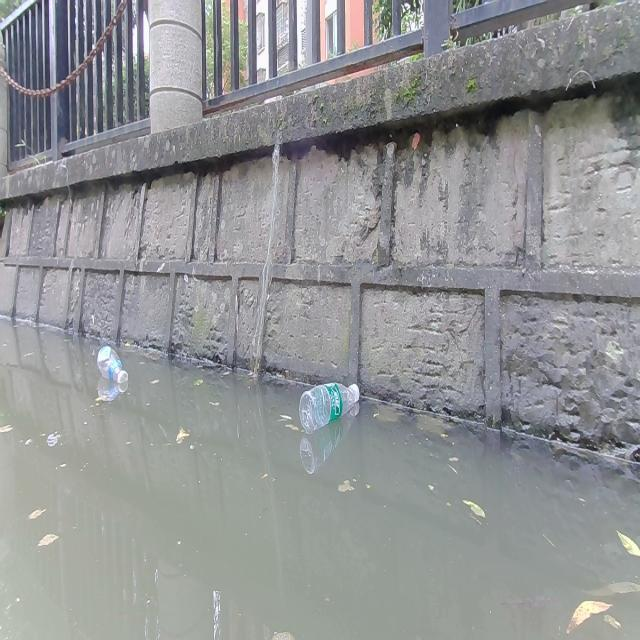bottle: (299, 378, 359, 430), (96, 344, 126, 383)
